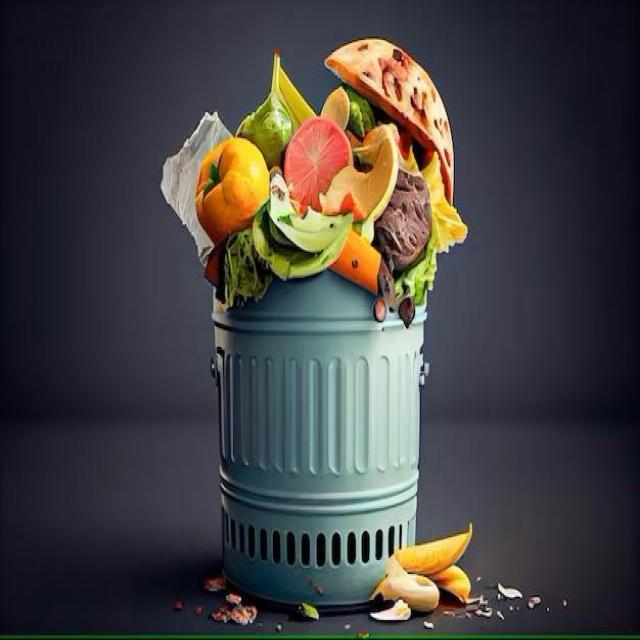Garbage: (155, 39, 473, 315)
